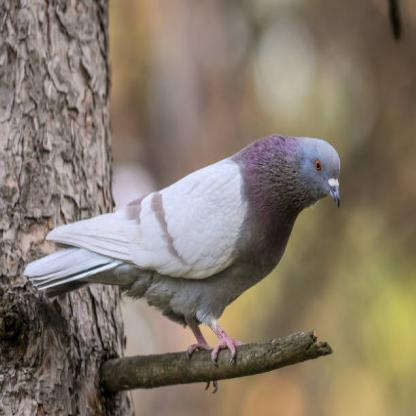Rock Pigeon: (37, 128, 357, 336)
